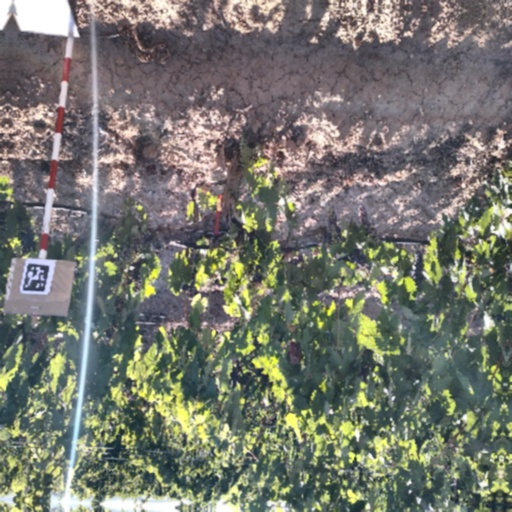QR: (24, 263, 47, 291)
